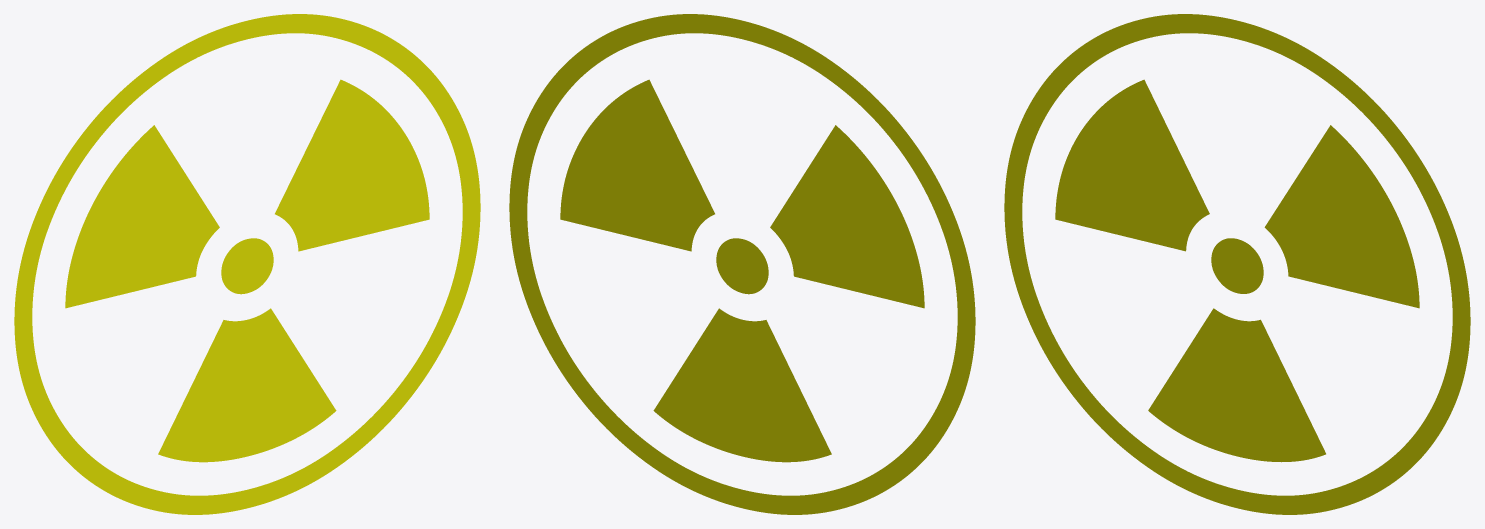
The model's file is radioactive_sign.glb.
3 renders of one model, left to right at view 1: azimuth 30°, elevation 25°; view 2: azimuth 150°, elevation 25°; view 3: azimuth 330°, elevation 25°, orthographic.
Visible parts, largest first — view 1: Text.827_827; view 2: Text.827_827; view 3: Text.827_827.
Boxes of the visible parts, left/top/right/bottom form: Text.827_827: left=14, top=14, right=480, bottom=514; Text.827_827: left=509, top=14, right=975, bottom=514; Text.827_827: left=1004, top=14, right=1470, bottom=514.
Size of the model in its own units: 1.02 by 1.02 by 3.6e-06.
